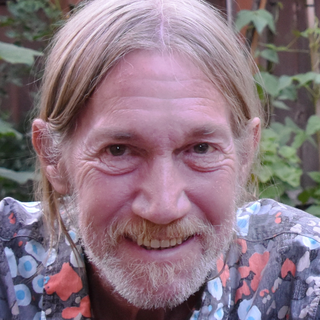eye: (99, 139, 140, 162), (181, 139, 225, 158)
